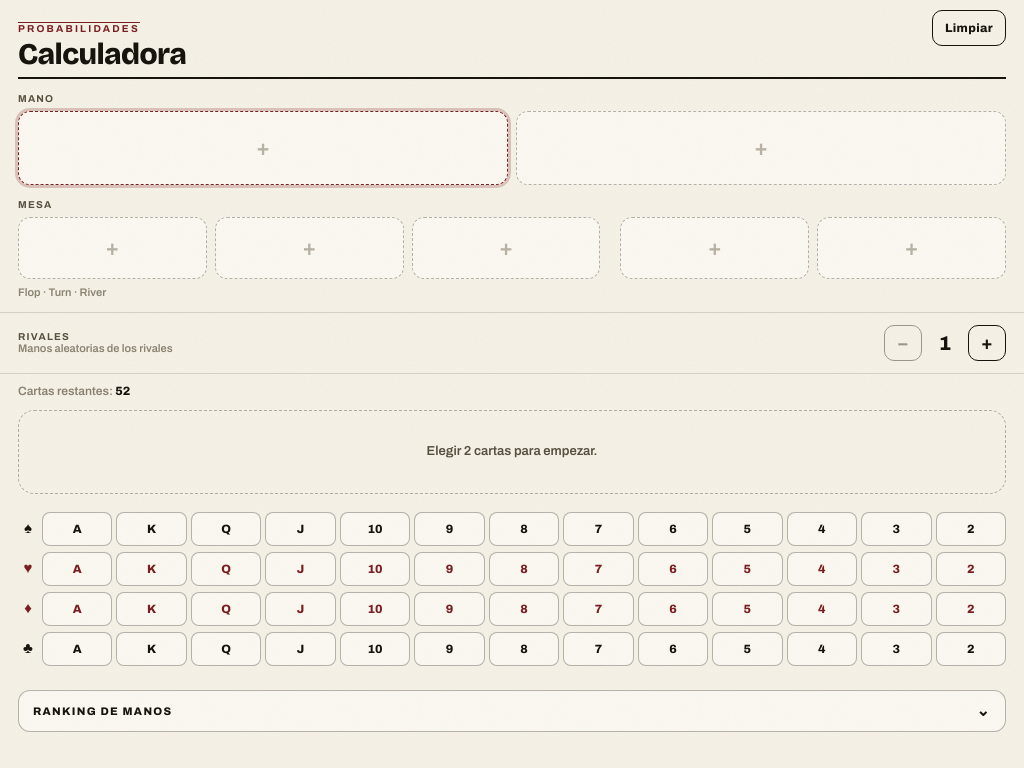
Test case: Calculadora › computes and plumbs the (mocked) worker win/tie/lose into the DOM
Fill 2 hole cards + a flop (3), leaving the default 1 rival.
Click the button named "A de picas" at (77, 529), box [42,512,112,546]
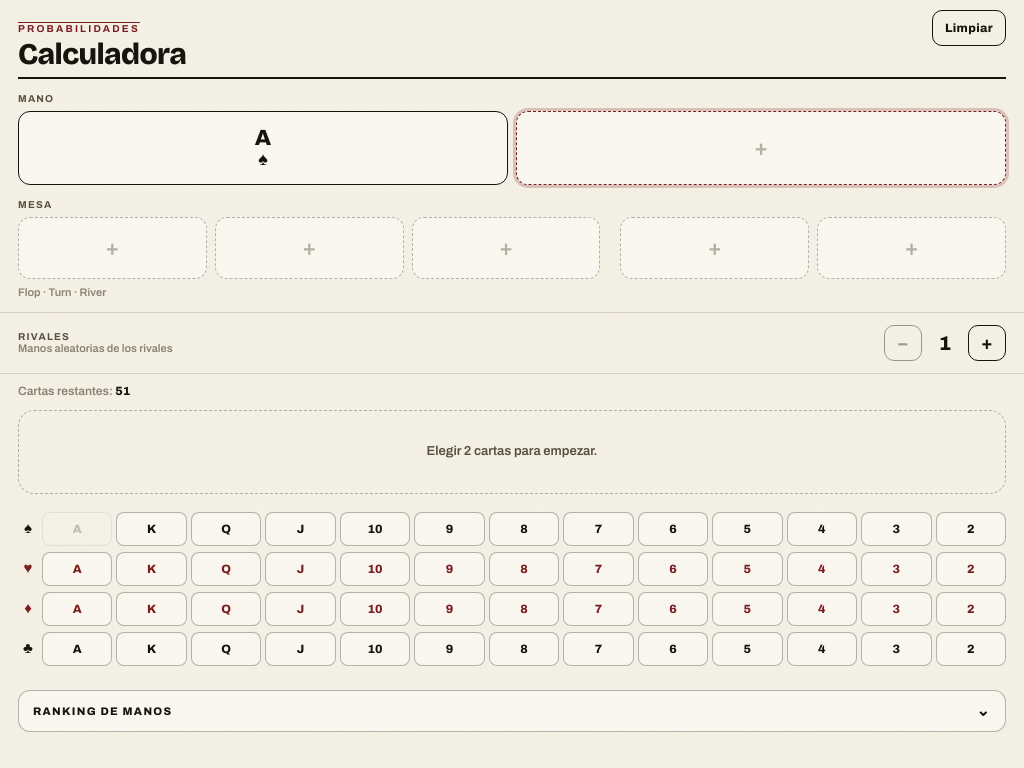
Click the button named "K de picas" at (152, 529), box [116,512,187,546]
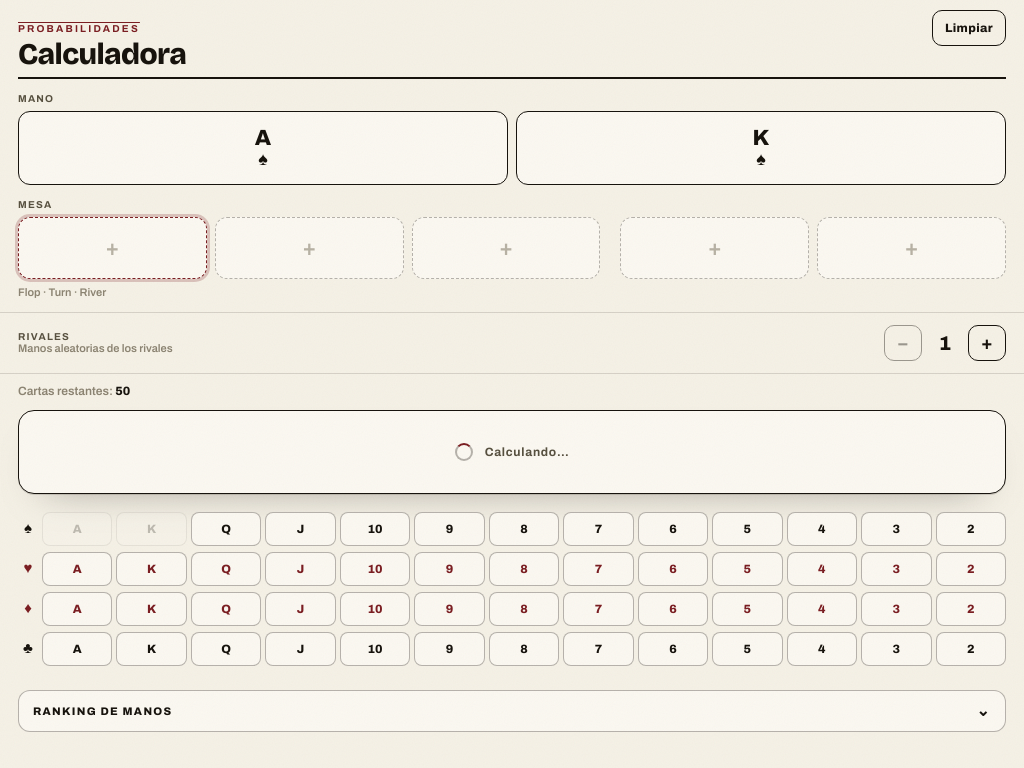
Click the button named "Q de corazones" at (226, 569), box [191,552,261,586]
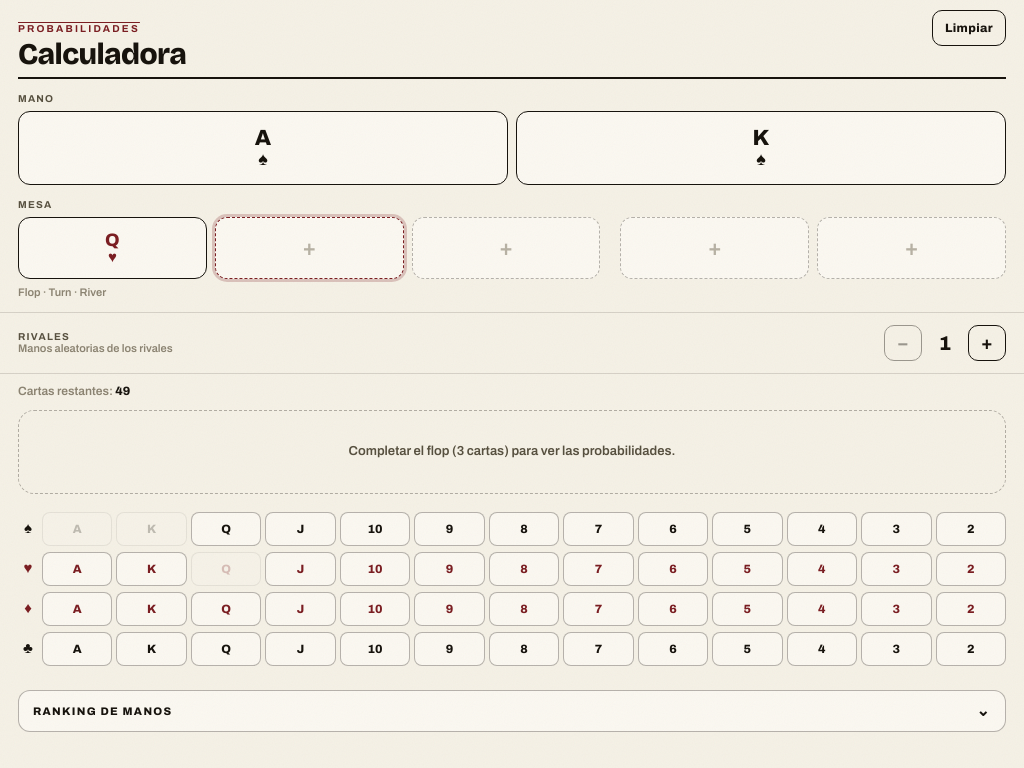
Click the button named "J de corazones" at (301, 569), box [265,552,336,586]
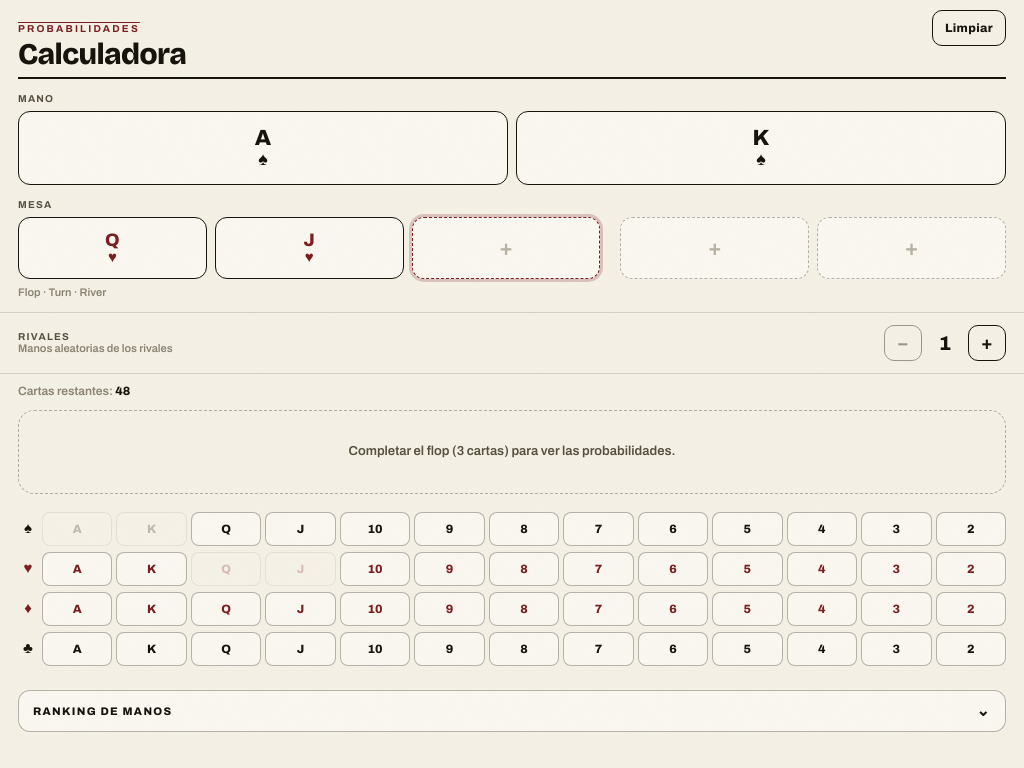
Click the button named "10 de corazones" at (375, 569), box [340,552,410,586]
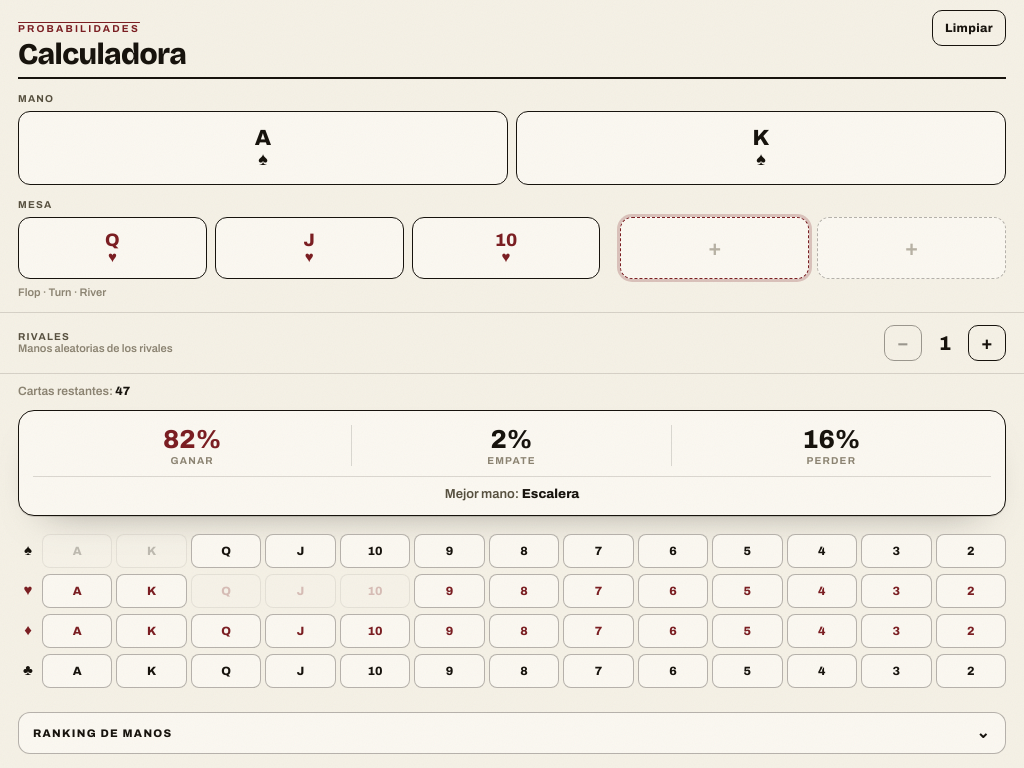
Expected: the text with test id "win-pct" reads "82%", [163,425,221,453]
Expected: the text with test id "tie-pct" reads "2%", [490,425,532,453]
Expected: the text with test id "lose-pct" reads "16%", [802,425,860,453]
